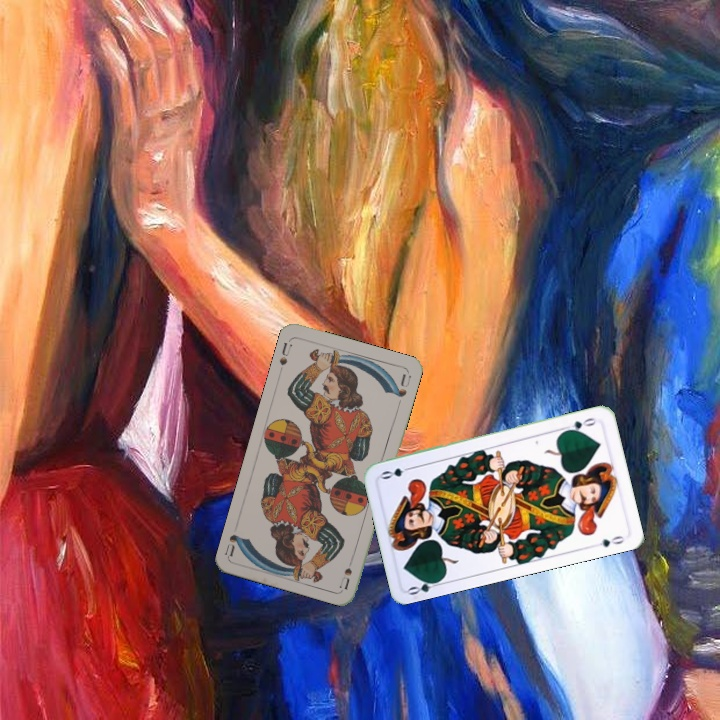GO: (405, 576, 445, 598), (560, 414, 598, 434)
SU: (336, 551, 357, 591), (275, 338, 294, 368)
